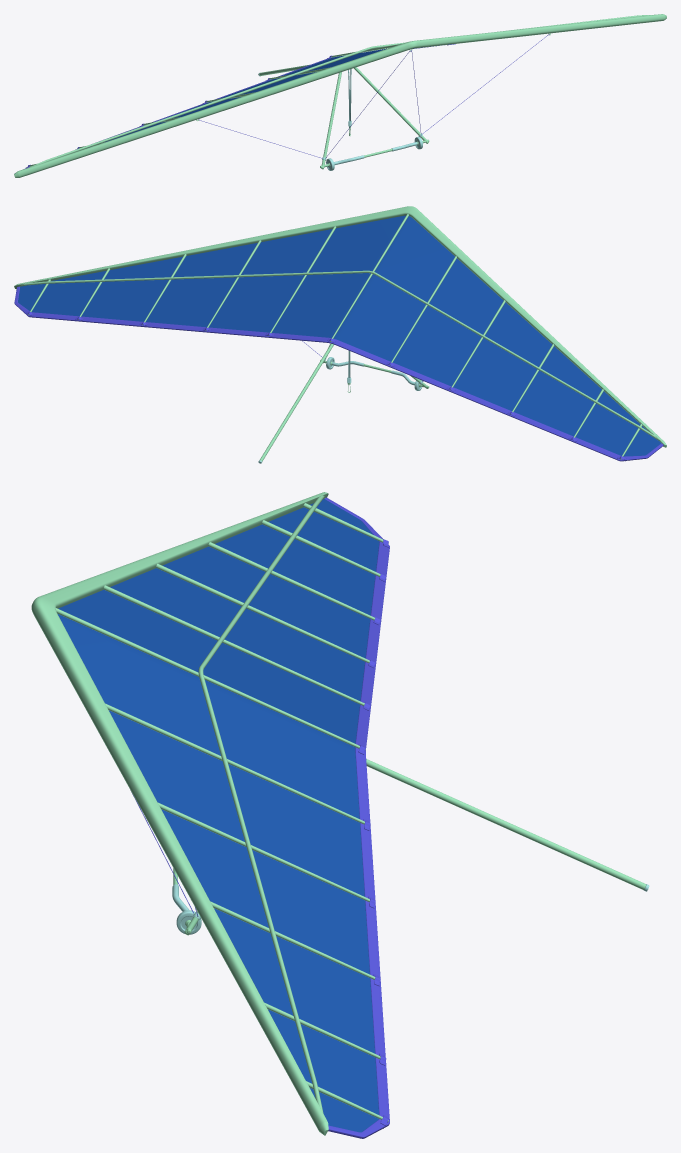
3 views of the same model, one above another, from view 1: azimuth 30°, elevation 25°; view 2: azimuth 150°, elevation 25°; view 3: azimuth 270°, elevation 25° (orthographic). The views are drawn at different scales.
Visible parts, largest first — view 1: archmodels81_038_03, archmodels81_038_01, archmodels81_038_02, archmodels81_038_04; view 2: archmodels81_038_01, archmodels81_038_03, archmodels81_038_02, archmodels81_038_04; view 3: archmodels81_038_01, archmodels81_038_03, archmodels81_038_02.
Part boxes in pixels (left/top/right/bottom): archmodels81_038_03: left=14, top=14, right=666, bottom=177; archmodels81_038_01: left=105, top=48, right=386, bottom=142; archmodels81_038_02: left=25, top=34, right=549, bottom=168; archmodels81_038_04: left=258, top=69, right=422, bottom=170; archmodels81_038_01: left=18, top=215, right=660, bottom=456; archmodels81_038_03: left=14, top=206, right=666, bottom=461; archmodels81_038_02: left=14, top=286, right=663, bottom=461; archmodels81_038_04: left=258, top=350, right=422, bottom=463; archmodels81_038_01: left=57, top=499, right=379, bottom=1132; archmodels81_038_03: left=31, top=492, right=646, bottom=1135; archmodels81_038_02: left=130, top=497, right=389, bottom=1138.
Size of the model in its own units: 256 by 54.71 by 105.
